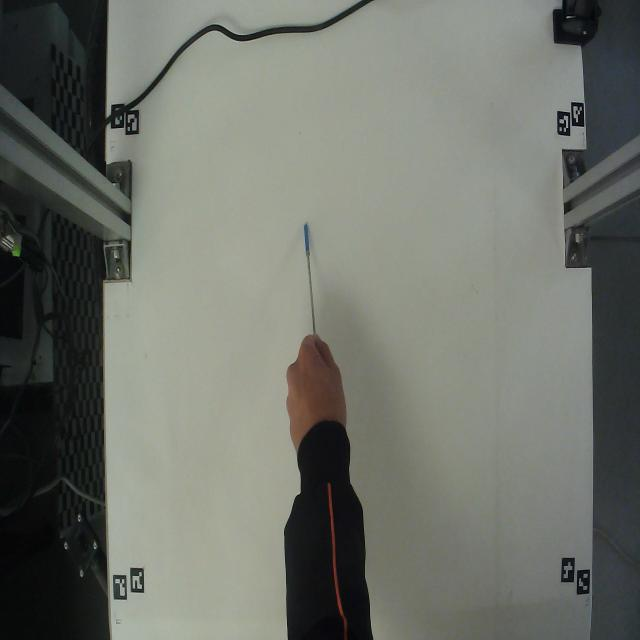Pres: (286, 198, 331, 340)
